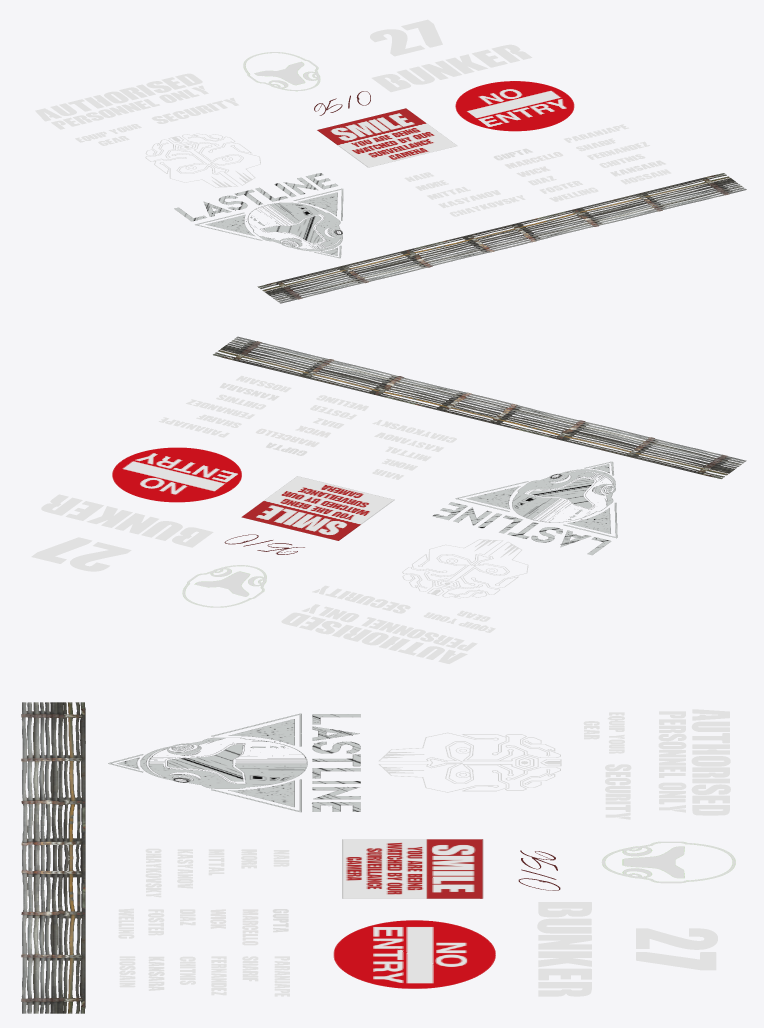
The model's file is DecalSets_02.FBX.
3 renders of one model, top to bottom at view 1: azimuth 30°, elevation 25°; view 2: azimuth 150°, elevation 25°; view 3: azimuth 270°, elevation 25°, orthographic. The views are drawn at different scales.
Parts seen in each view (by area): view 1: Cables, LL_Logo, Rectangle026, NoEntry, CCTV, Authorised, Bunker, HA_Logo, Neurassist, Security; view 2: Cables, LL_Logo, Rectangle026, NoEntry, CCTV, Authorised, Bunker, HA_Logo, Neurassist, Security; view 3: Cables, LL_Logo, Rectangle026, NoEntry, CCTV, Authorised, Bunker, HA_Logo, Neurassist, Security, Gear.
Part boxes in pixels (x1,y1,x2,y2): Cables: [257, 173, 746, 303]; LL_Logo: [174, 173, 343, 258]; Rectangle026: [314, 19, 671, 216]; NoEntry: [455, 81, 574, 131]; CCTV: [317, 108, 457, 167]; Authorised: [35, 73, 208, 129]; Bunker: [371, 44, 532, 92]; HA_Logo: [145, 133, 260, 187]; Neurassist: [243, 52, 320, 91]; Security: [151, 97, 238, 123]; Cables: [213, 336, 746, 478]; LL_Logo: [432, 461, 617, 555]; Rectangle026: [31, 375, 456, 571]; NoEntry: [112, 447, 241, 502]; CCTV: [241, 476, 394, 540]; Authorised: [281, 604, 477, 663]; Bunker: [41, 494, 213, 547]; HA_Logo: [402, 539, 528, 598]; Neurassist: [182, 565, 266, 607]; Security: [312, 585, 410, 613]; Cables: [21, 702, 85, 1013]; LL_Logo: [108, 713, 360, 812]; Rectangle026: [118, 848, 717, 996]; NoEntry: [333, 920, 495, 988]; CCTV: [342, 839, 483, 898]; Authorised: [658, 709, 730, 815]; Bunker: [537, 902, 591, 996]; HA_Logo: [378, 732, 561, 792]; Neurassist: [601, 841, 735, 883]; Security: [605, 764, 631, 819]; Gear: [583, 712, 624, 753].
Bounding box in the file's own units: 500 × 3.06e-14 × 500.
Materials: 1 (1 with a texture image).
